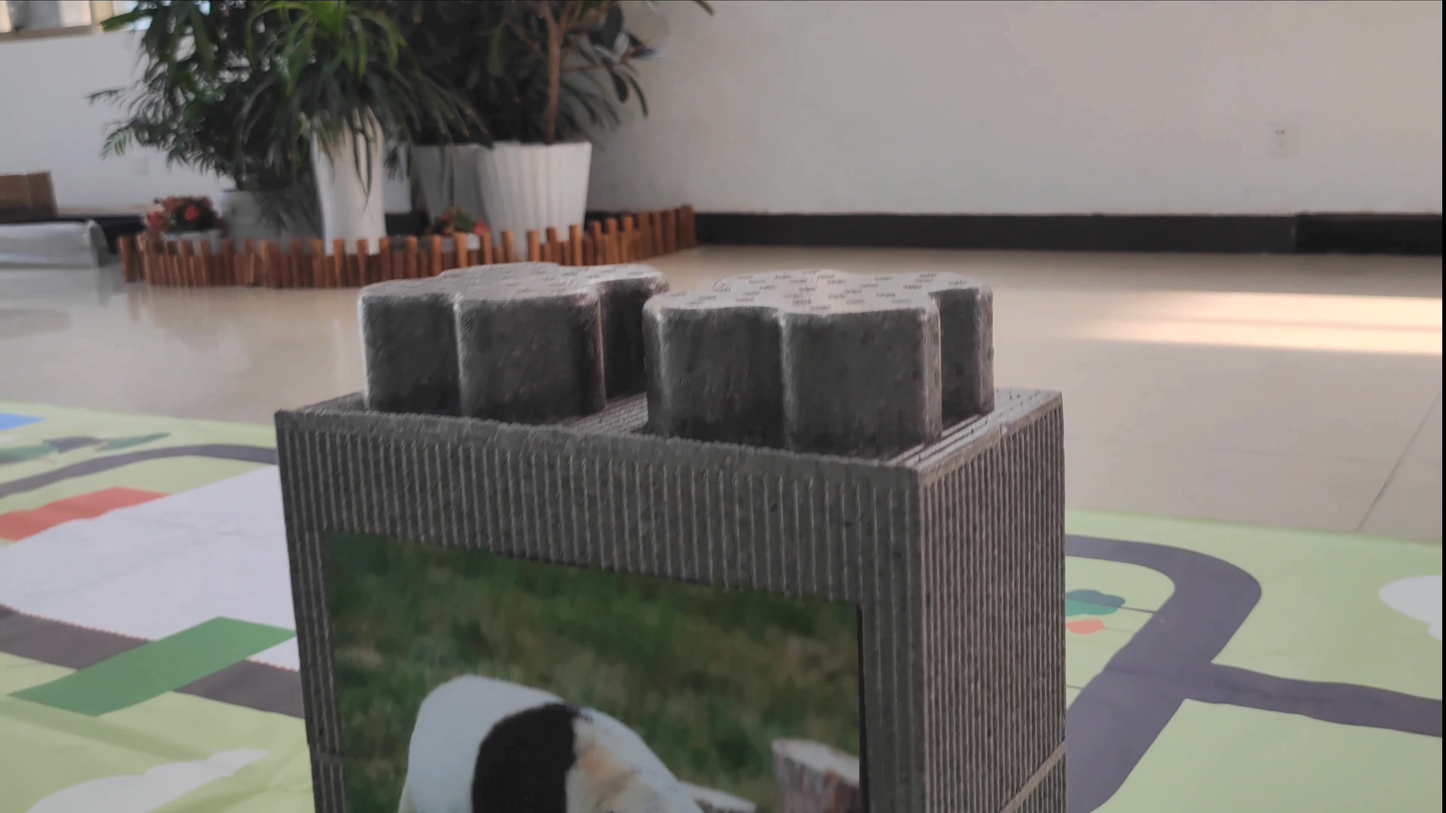panda: (375, 639, 803, 813)
